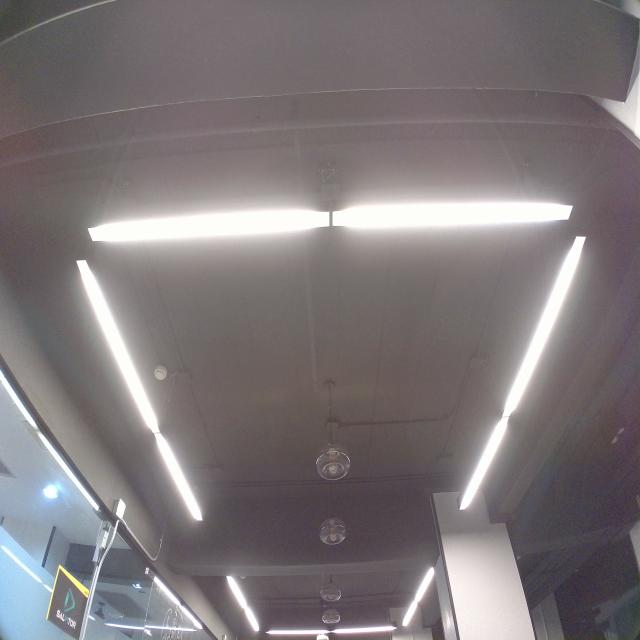lamp2_on: (449, 232, 595, 518), (67, 253, 214, 530), (81, 191, 586, 252)
